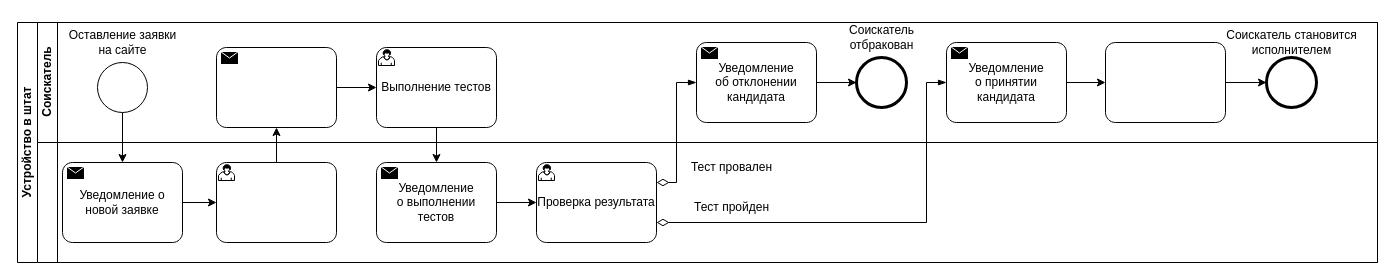
The diagram is 1395 pixels wide and 280 high, and some of its shapes have lost their labels. The box of each missing label's shape, as (x1, y1, x2, y2) in pixels:
Менеджер: (36, 142, 1378, 262)
Подбор и назначение тестов для кандидата: (216, 162, 336, 242)
Соискатель добавлен в общий пул исполнителей: (1104, 42, 1226, 122)
Уведомление о назначении тестов: (216, 46, 336, 128)
